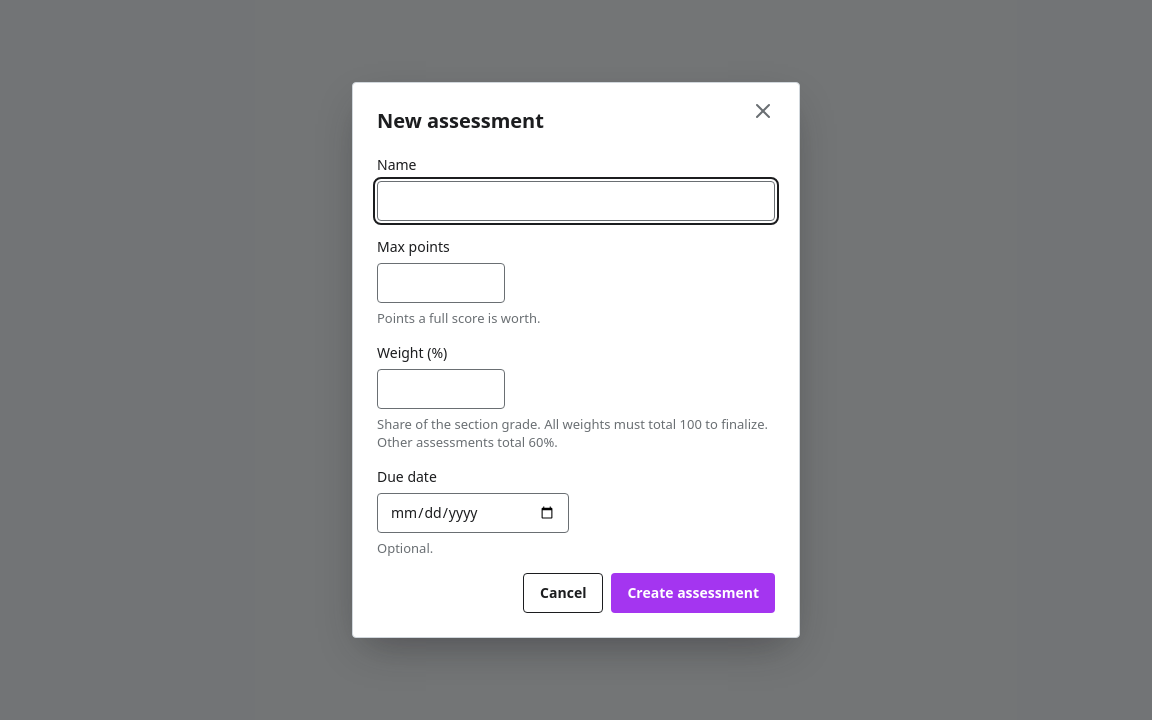
Test: shows the duplicate-name conflict under Name
The image size is (1152, 720).
In the field labelled "Name": coordinates (576, 201) top-left (377, 181), bottom-right (775, 221), type "Midterm"
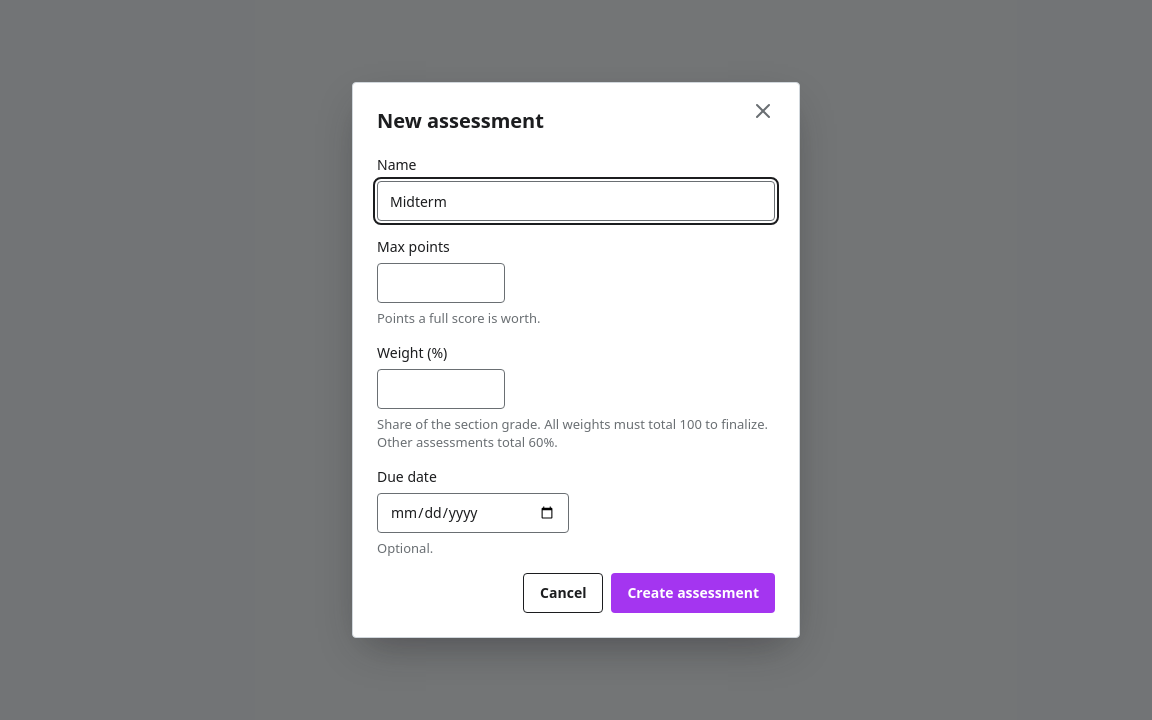
In the field labelled "Max points": coordinates (441, 283) top-left (377, 263), bottom-right (505, 303), type "40"
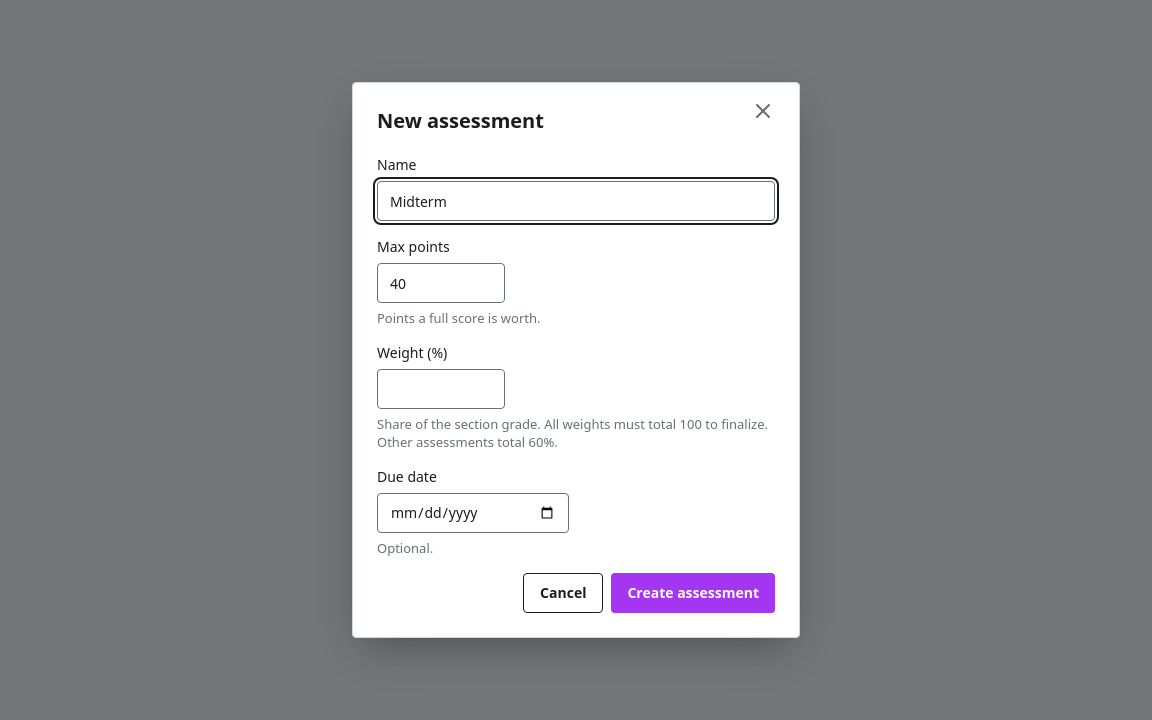
In the field labelled "Weight (%)": coordinates (441, 389) top-left (377, 369), bottom-right (505, 409), type "40"
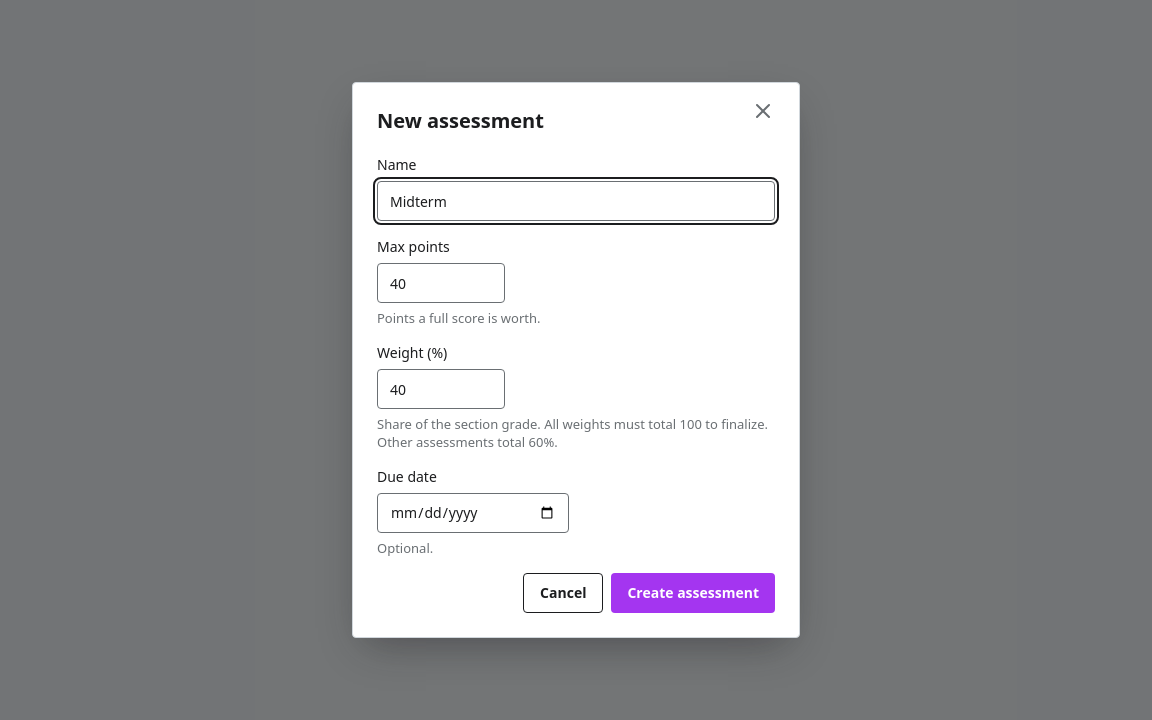
Click the button "Create assessment": coordinates (693, 593) top-left (611, 573), bottom-right (775, 613)
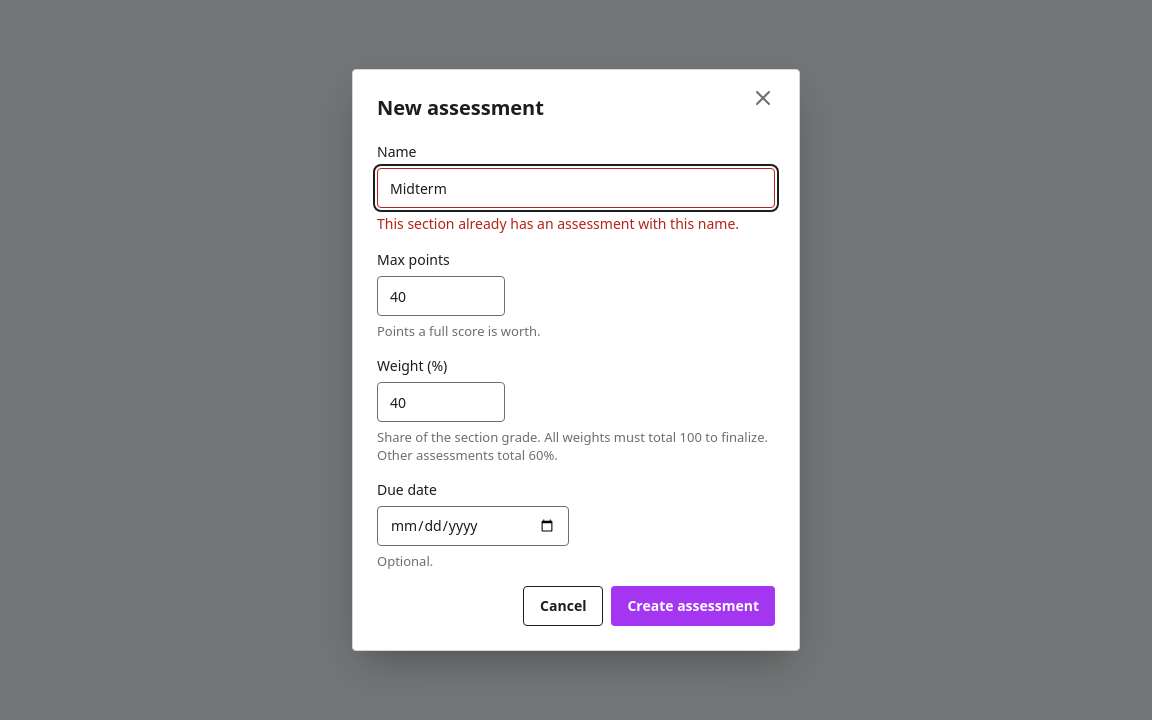
Expected: the text "This section already has an assessment with this name." is shown, top-left (377, 214), bottom-right (775, 234)
